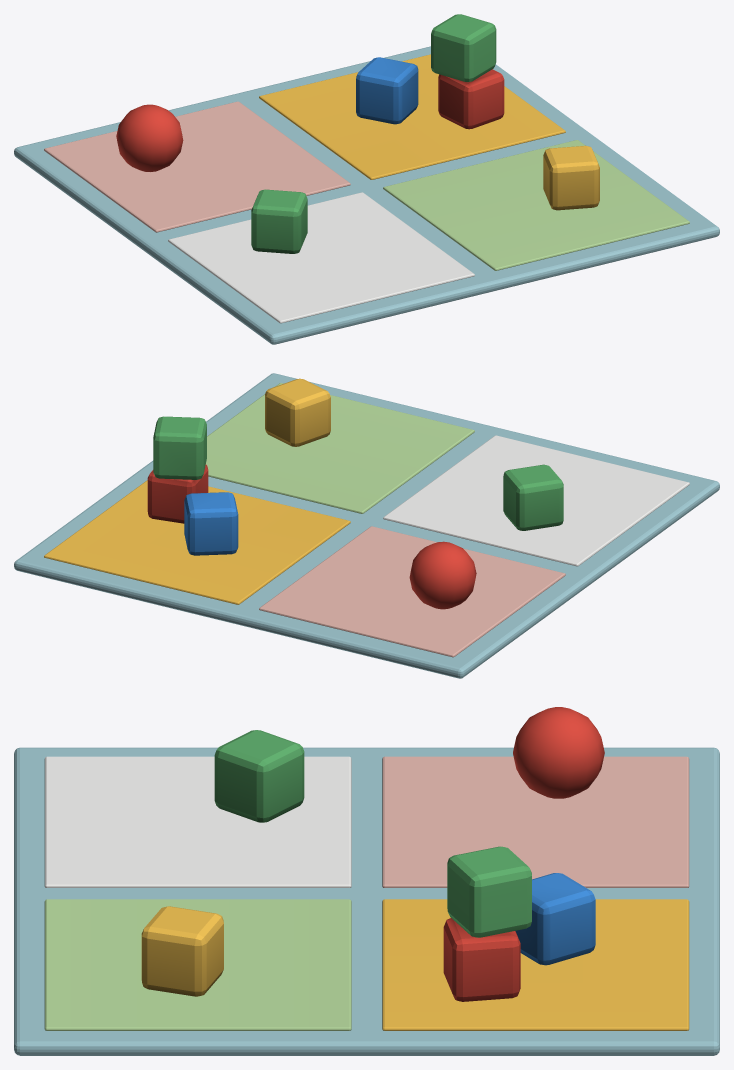
File: playMat.glb
3 renders of one model, top to bottom at view 1: azimuth 30°, elevation 25°; view 2: azimuth 150°, elevation 25°; view 3: azimuth 270°, elevation 25°, orthographic. The views are drawn at different scales.
Visible parts, largest first — view 1: body; view 2: body; view 3: body.
Boxes of the visible parts, left/top/right/bottom form: body: left=14, top=14, right=719, bottom=344; body: left=14, top=373, right=719, bottom=678; body: left=14, top=707, right=719, bottom=1055.
Size of the model in its own units: 0.92 by 0.204 by 0.92.
